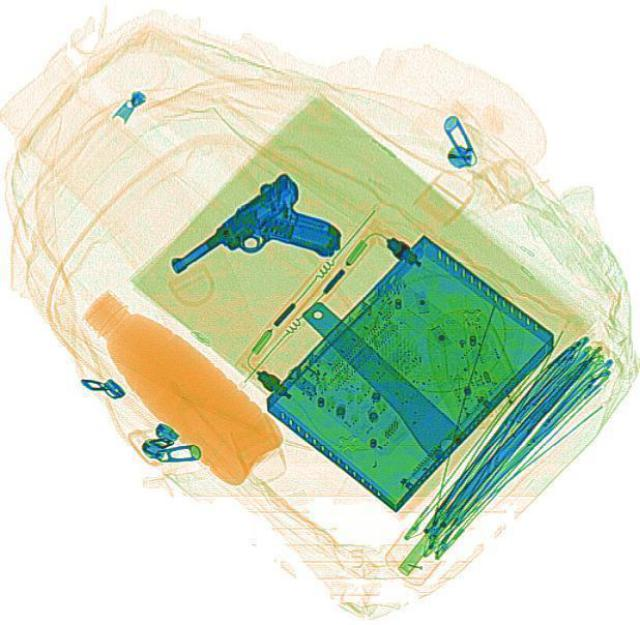Gun: (162, 167, 350, 330)
